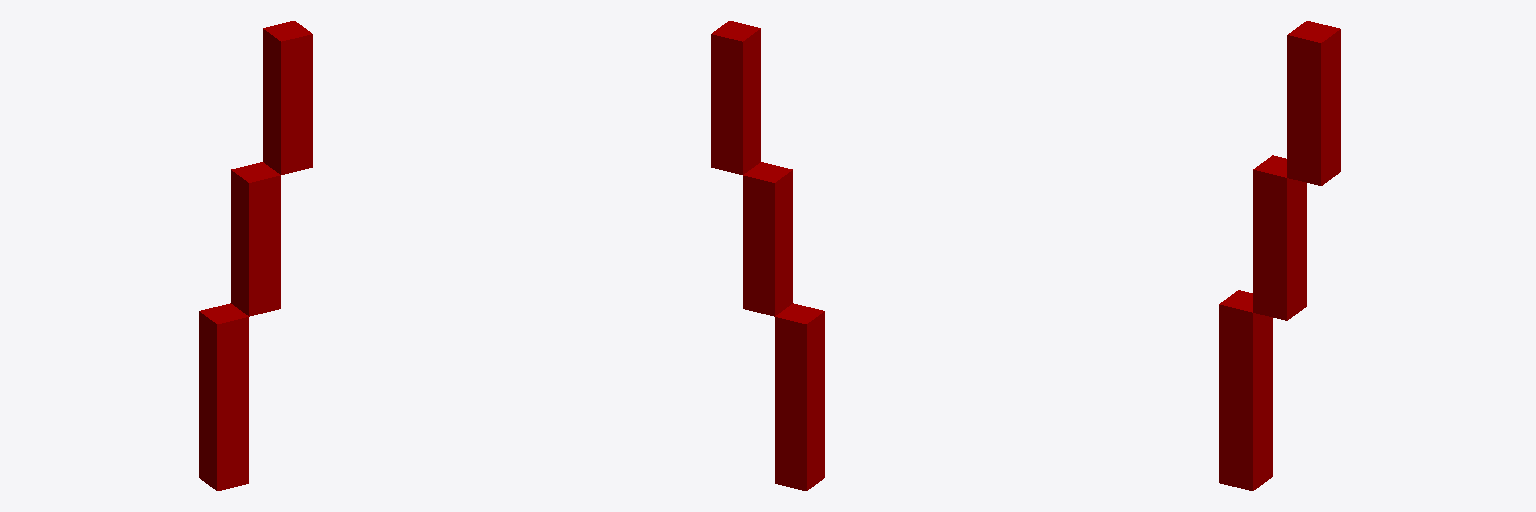
URDF robot description (test_robot):
<robot name="test_robot">
    <material name="red">
        <color rgba="0.7 0.0 0.0 1.0"/>
    </material>

  <link name="base_link"/>

  <joint name="body1_joint" type="fixed">
    <parent link="base_link"/>
    <child  link="body1_link"/>
  </joint>
  <link name="body1_link">
    <visual>
      <geometry>
        <box size="0.1 0.1 0.5"/>
      </geometry>
      <origin xyz="0 0 0.25" rpy="0 0 0"/>
      <material name="red"/>
    </visual>
  </link>

  <joint name="body2_joint" type="continuous">
    <parent link="body1_link"/>
    <child  link="body2_link"/>
    <origin xyz="0.1 0 0.5" rpy="0 0 0"/>
  </joint>
  <link name="body2_link">
    <visual>
      <geometry>
        <box size="0.1 0.1 0.4"/>
      </geometry>
      <origin xyz="0 0 0.2" rpy="0 0 0"/>
      <material name="red"/>
    </visual>
  </link>

  <joint name="body3_joint" type="continuous">
    <parent link="body2_link"/>
    <child  link="body3_link"/>
    <origin xyz="0.1 0 0.4" rpy="0 0 0"/>
  </joint>
  <link name="body3_link">
    <visual>
      <geometry>
        <box size="0.1 0.1 0.4"/>
      </geometry>
      <origin xyz="0 0 0.2" rpy="0 0 0"/>
      <material name="red"/>
    </visual>
  </link>
</robot>

--- What the picture shows (computed from the rendered views, not written in the file) ---
The picture shows the robot from 3 angles, left to right: view 1: azimuth 30°, elevation 25°; view 2: azimuth 150°, elevation 25°; view 3: azimuth 330°, elevation 25°; orthographic projection.
Robot: test_robot — 4 links, 3 joints (2 continuous, 1 fixed); root link base_link; default pose: all joints at 0.
Visible links, largest first — view 1: body1_link, body2_link, body3_link; view 2: body1_link, body2_link, body3_link; view 3: body1_link, body3_link, body2_link.
Link boxes in pixels (bbox=[...]): body1_link: bbox=[199, 303, 248, 490]; body2_link: bbox=[231, 162, 280, 316]; body3_link: bbox=[263, 21, 312, 174]; body1_link: bbox=[775, 303, 824, 490]; body2_link: bbox=[743, 162, 792, 316]; body3_link: bbox=[711, 21, 760, 174]; body1_link: bbox=[1219, 290, 1272, 490]; body3_link: bbox=[1287, 21, 1340, 185]; body2_link: bbox=[1253, 155, 1306, 320].
Bounding box of the posed robot: 0.3 × 0.1 × 1.3 m (x, y, z).
Geometry: primitives only (box / cylinder / sphere), no mesh files.